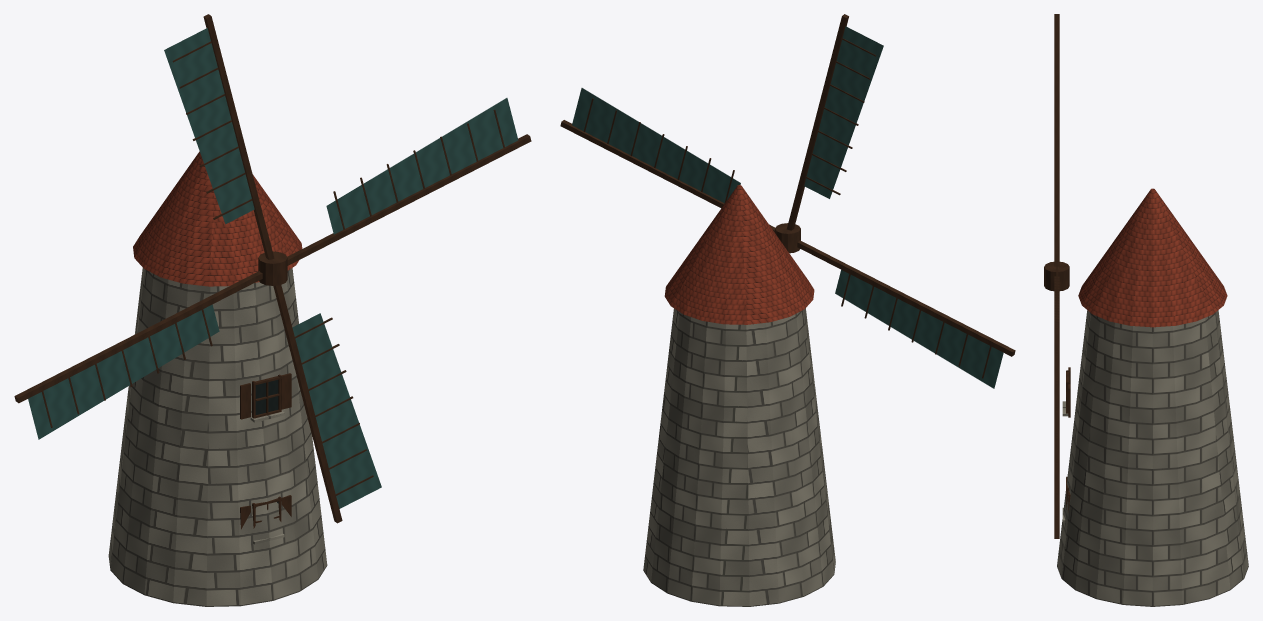
File: SG_Windmill_LOD0.fbx
The picture shows the model from 3 angles, left to right: view 1: azimuth 30°, elevation 25°; view 2: azimuth 150°, elevation 25°; view 3: azimuth 270°, elevation 25°; orthographic projection. The views are drawn at different scales.
Visible parts, largest first — view 1: SG_Windmill_Detail0; view 2: SG_Windmill_Detail0; view 3: SG_Windmill_Detail0.
Boxes of the visible parts, x1,y1,x2,y2 form: SG_Windmill_Detail0: [14, 14, 531, 606]; SG_Windmill_Detail0: [560, 14, 1015, 606]; SG_Windmill_Detail0: [1044, 14, 1248, 606].
Size of the model in its own units: 48.57 by 54.28 by 19.2.
